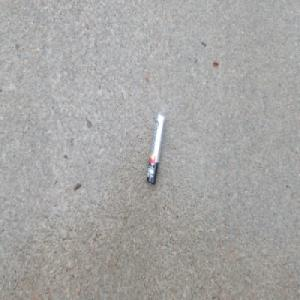Battery: (146, 113, 165, 188)
